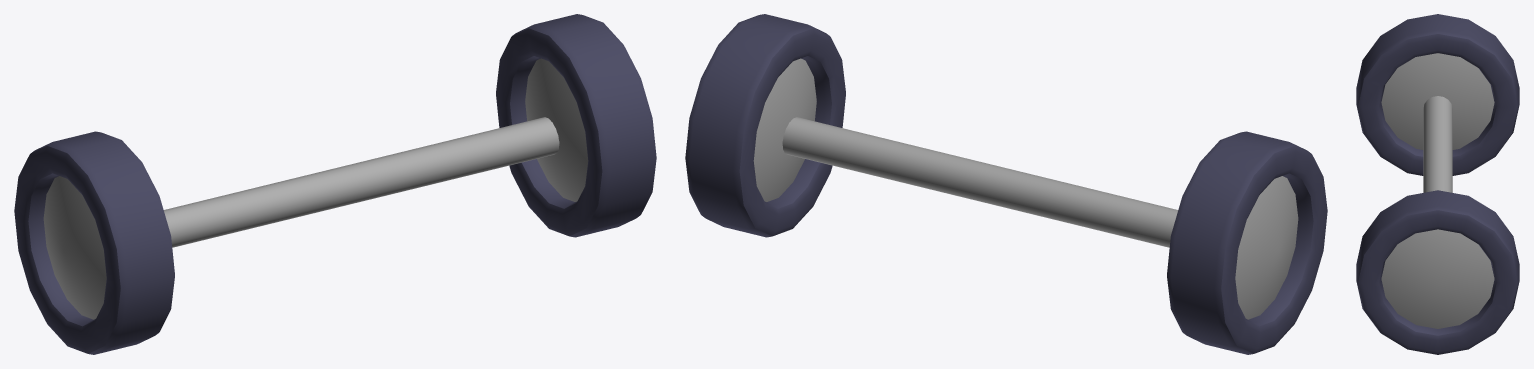
The model's file is SM_Tires.fbx.
The picture shows the model from 3 angles, left to right: view 1: azimuth 30°, elevation 25°; view 2: azimuth 150°, elevation 25°; view 3: azimuth 270°, elevation 25°; orthographic projection. The views are drawn at different scales.
Parts seen in each view (by area): view 1: SM_Tires; view 2: SM_Tires; view 3: SM_Tires.
Part boxes in pixels (left/top/right/bottom): SM_Tires: left=14, top=14, right=656, bottom=354; SM_Tires: left=685, top=14, right=1327, bottom=354; SM_Tires: left=1356, top=14, right=1519, bottom=354.
Size of the model in its own units: 150 by 52.04 by 52.04.
